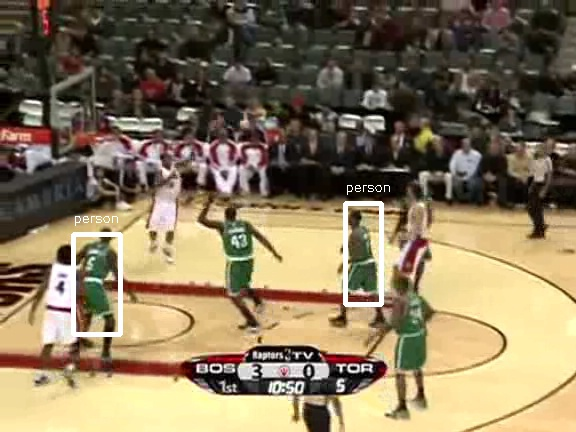person: (346, 223, 380, 304), (345, 223, 379, 304), (347, 223, 381, 304), (346, 222, 380, 303), (346, 224, 380, 305)
target_negative: (175, 157, 549, 252), (185, 256, 413, 309), (424, 256, 539, 352), (489, 190, 566, 311), (435, 46, 454, 206), (524, 392, 543, 409)
